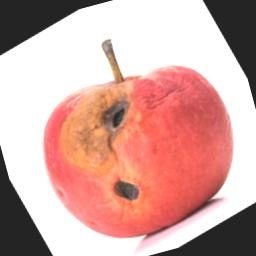Apple Rotten: (5, 15, 256, 256)
